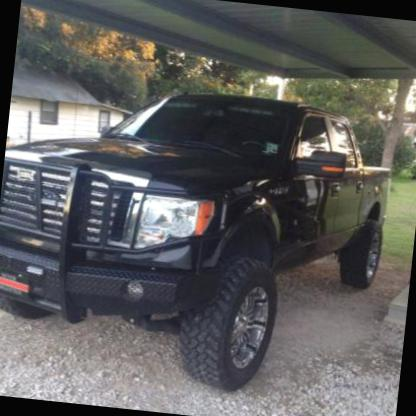truck: (0, 66, 409, 398)
